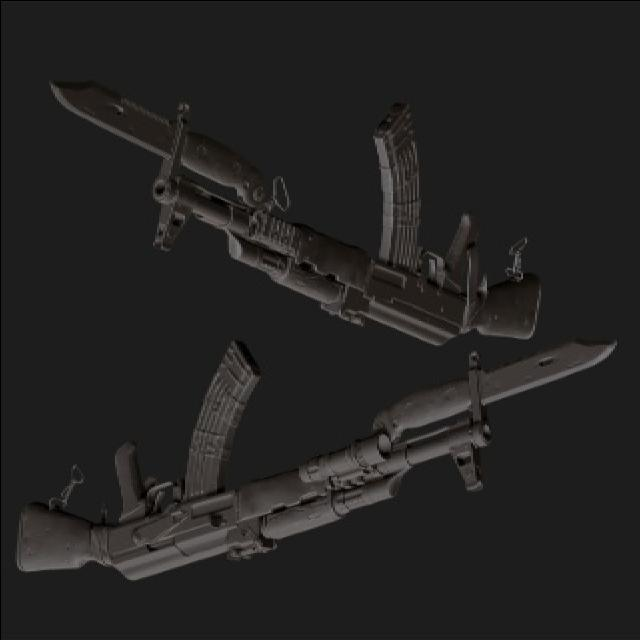rifle: (7, 341, 621, 592), (43, 72, 545, 348)
